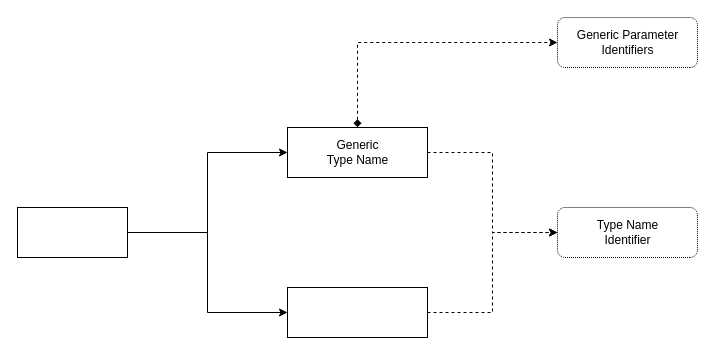
Some shapes in this 715 by 355 pixel diagram are drawn without their labels. The centre of each missing label's shape, as x and y in pixels:
"Simple Type Name" goes at (357,312).
"Type Name" goes at (72,232).
